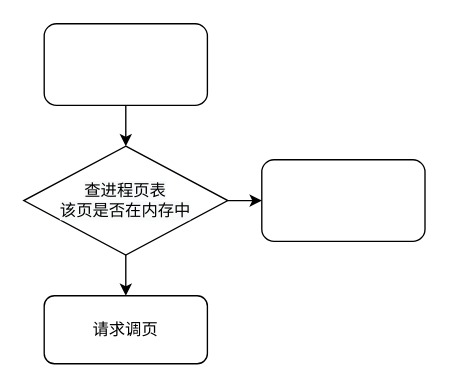
Image size: 449x388. Some labels were removed from this diagram. The box of each missing label's shape, as (x1, y1, x2, y2) in pixels:
参数进程、虚拟页号: (43, 22, 207, 105)
页表项访问位置为 1: (260, 158, 425, 241)
